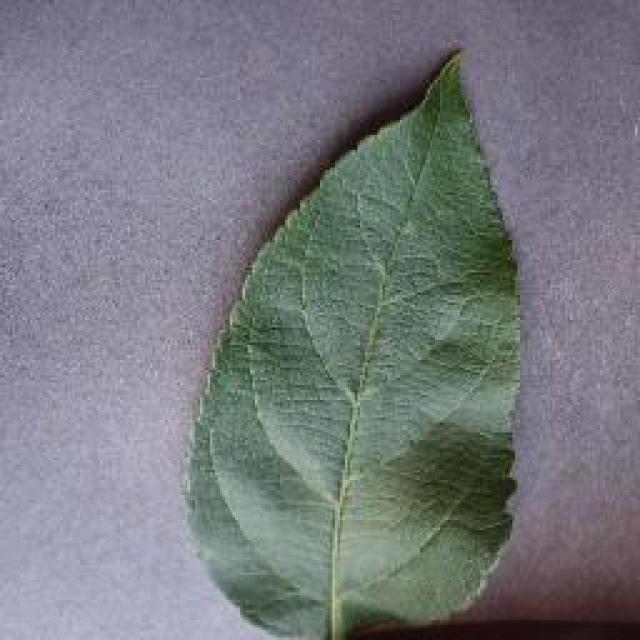apple healthy: (180, 45, 528, 637)
